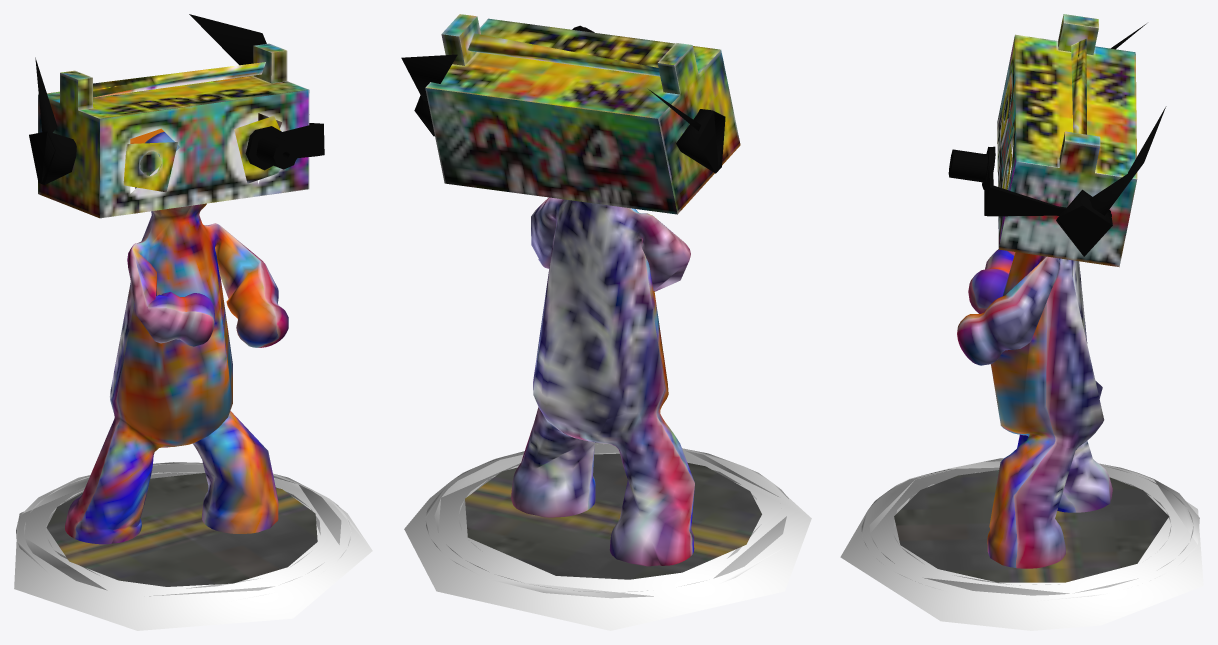
The model's file is out_bOOBOXBODY_Mat_1_Mat_1.baked.001_LOD1_104_LOD.glb.
3 renders of one model, left to right at view 1: azimuth 30°, elevation 25°; view 2: azimuth 150°, elevation 25°; view 3: azimuth 270°, elevation 25°, orthographic. The views are drawn at different scales.
Parts seen in each view (by area): view 1: bOOBOXBODY_Mat_1_Mat_1.baked.001_LOD1; view 2: bOOBOXBODY_Mat_1_Mat_1.baked.001_LOD1; view 3: bOOBOXBODY_Mat_1_Mat_1.baked.001_LOD1.
Part boxes in pixels (x1,y1,x2,y2): bOOBOXBODY_Mat_1_Mat_1.baked.001_LOD1: (14,14,372,630); bOOBOXBODY_Mat_1_Mat_1.baked.001_LOD1: (401,14,811,630); bOOBOXBODY_Mat_1_Mat_1.baked.001_LOD1: (840,14,1203,630).
Bounding box in the file's own units: 1.45 × 2.04 × 1.37.
5 materials, 3 textured.
